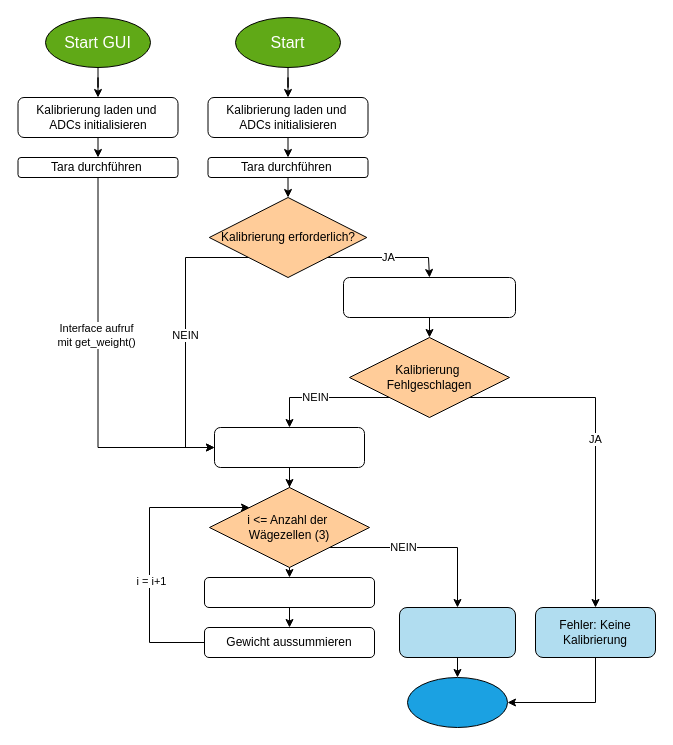
The diagram is 673 pixels wide and 745 high, and some of its shapes have lost their labels. The centre of each missing label's shape, as x and y in pixels:
"Ende" belongs at (x=457, y=702).
"Ergebis Ausgabe" belongs at (x=457, y=632).
"Messung Starten i = 0" belongs at (x=289, y=447).
"Wägezelle einzeln auslesen und in Gramm umwandeln" belongs at (x=289, y=592).
"Wägezelle einzeln auswählen und kalibrieren" belongs at (x=429, y=297).
